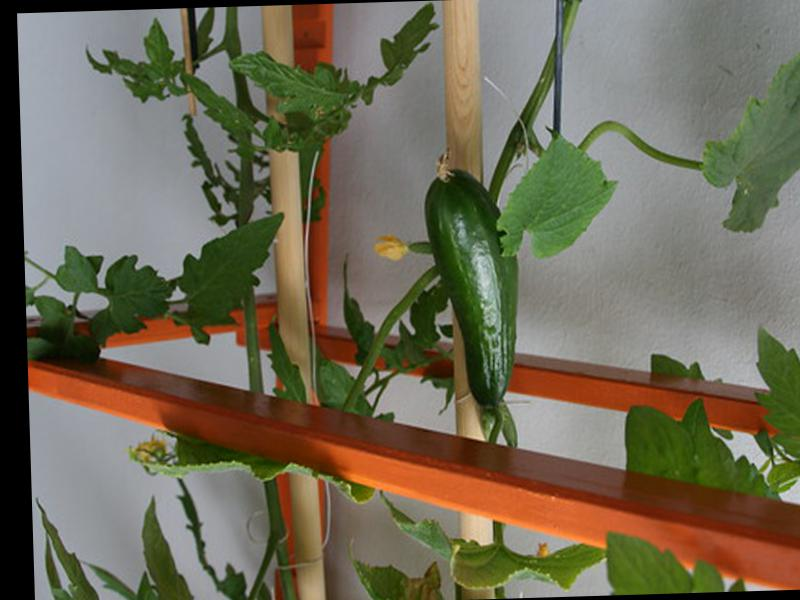Cucumber: (423, 150, 520, 407)
